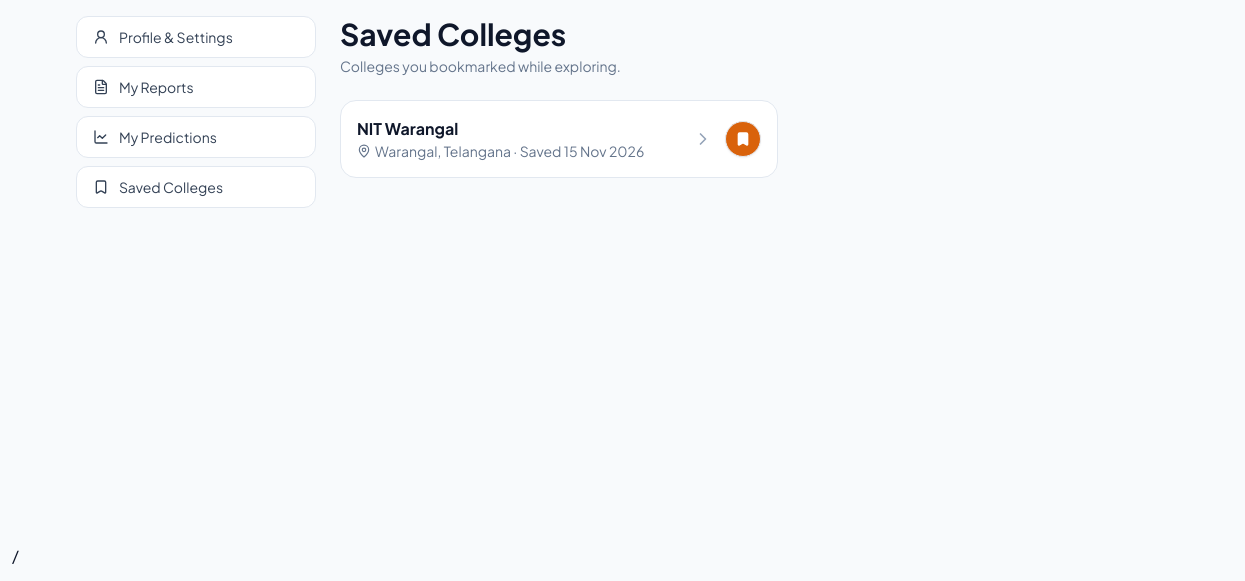
Scenario: Saved Colleges › links to each college page and can remove it
Step 1. Click the button named "remove nit warangal" → (743, 139), box top-left (725, 121), bottom-right (761, 157)
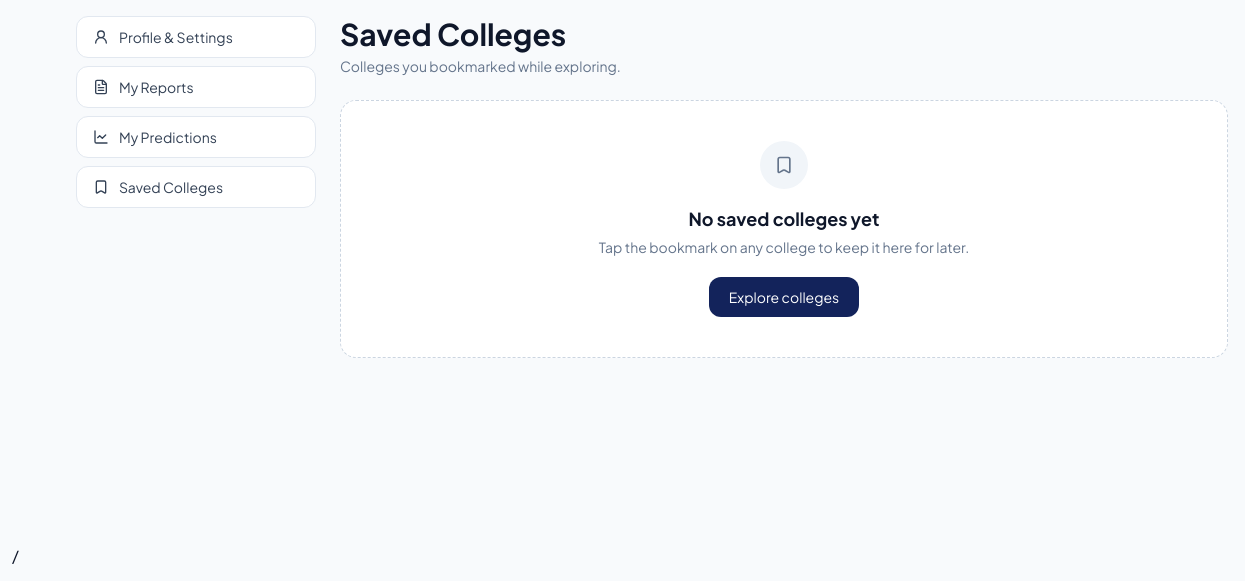
Now the heading "No saved colleges yet" is shown, box top-left (688, 207), bottom-right (879, 230)
